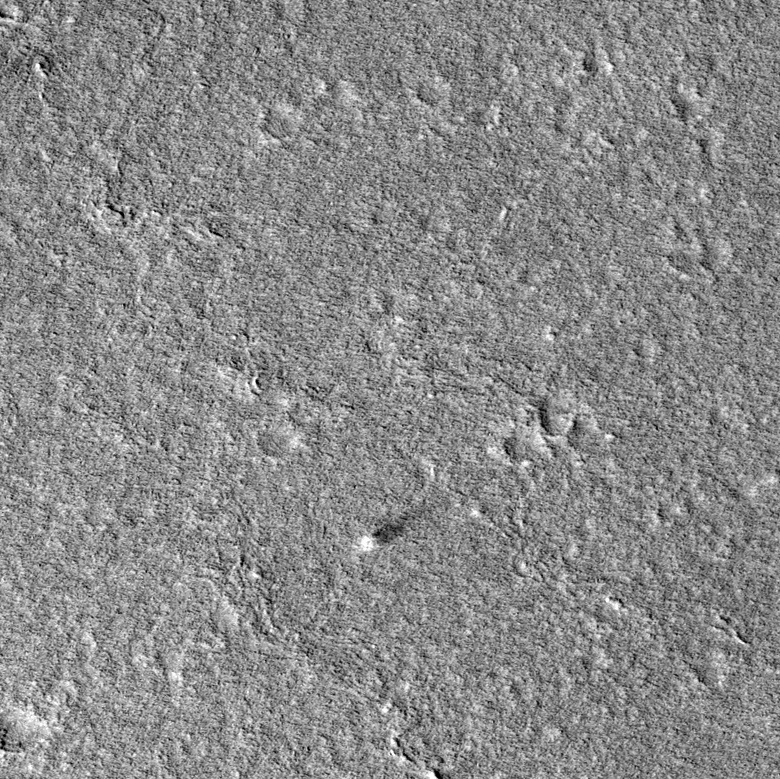dust_devil: (359, 504, 424, 554)
